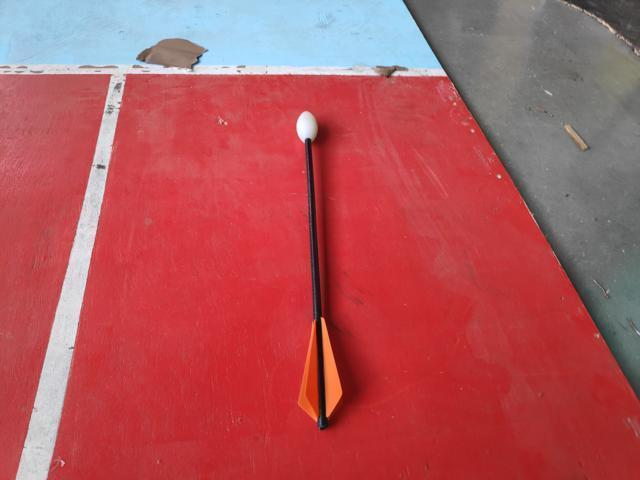Head: (291, 108, 325, 144)
Tail: (294, 314, 346, 430)
